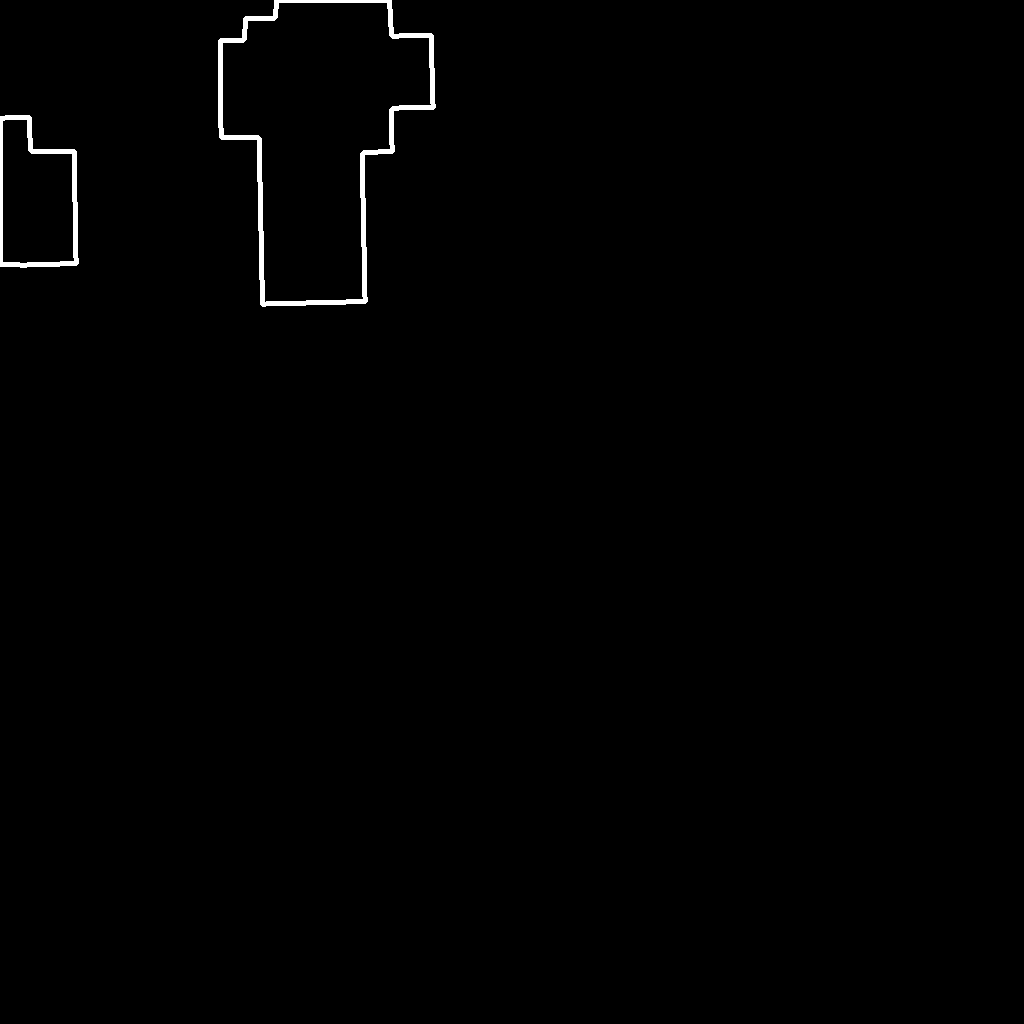building: (220, 0, 434, 305), (0, 117, 77, 266)
